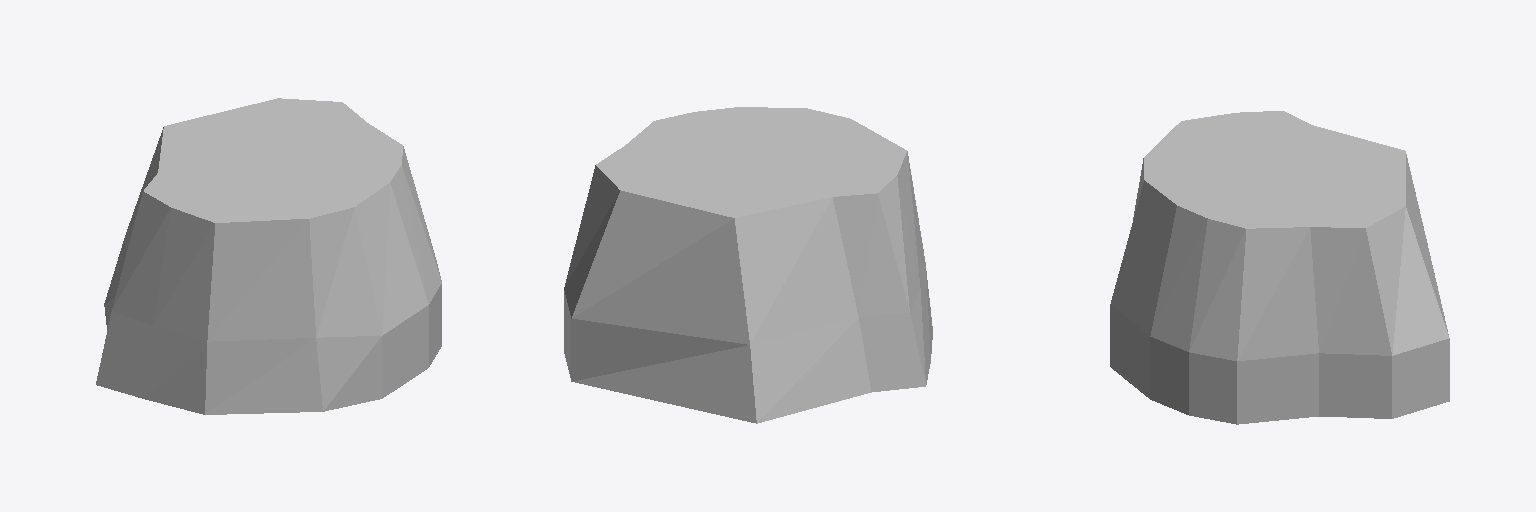
Rendered from Stone 2.obj.
3 renders of one model, left to right at view 1: azimuth 30°, elevation 25°; view 2: azimuth 150°, elevation 25°; view 3: azimuth 270°, elevation 25°, orthographic.
Parts seen in each view (by area): view 1: Rock2; view 2: Rock2; view 3: Rock2.
Part boxes in pixels (x1,y1,x2,y2): Rock2: (96, 98, 441, 414); Rock2: (564, 107, 932, 423); Rock2: (1110, 111, 1449, 424).
Bounding box in the file's own units: 17.61 × 9.61 × 16.24.